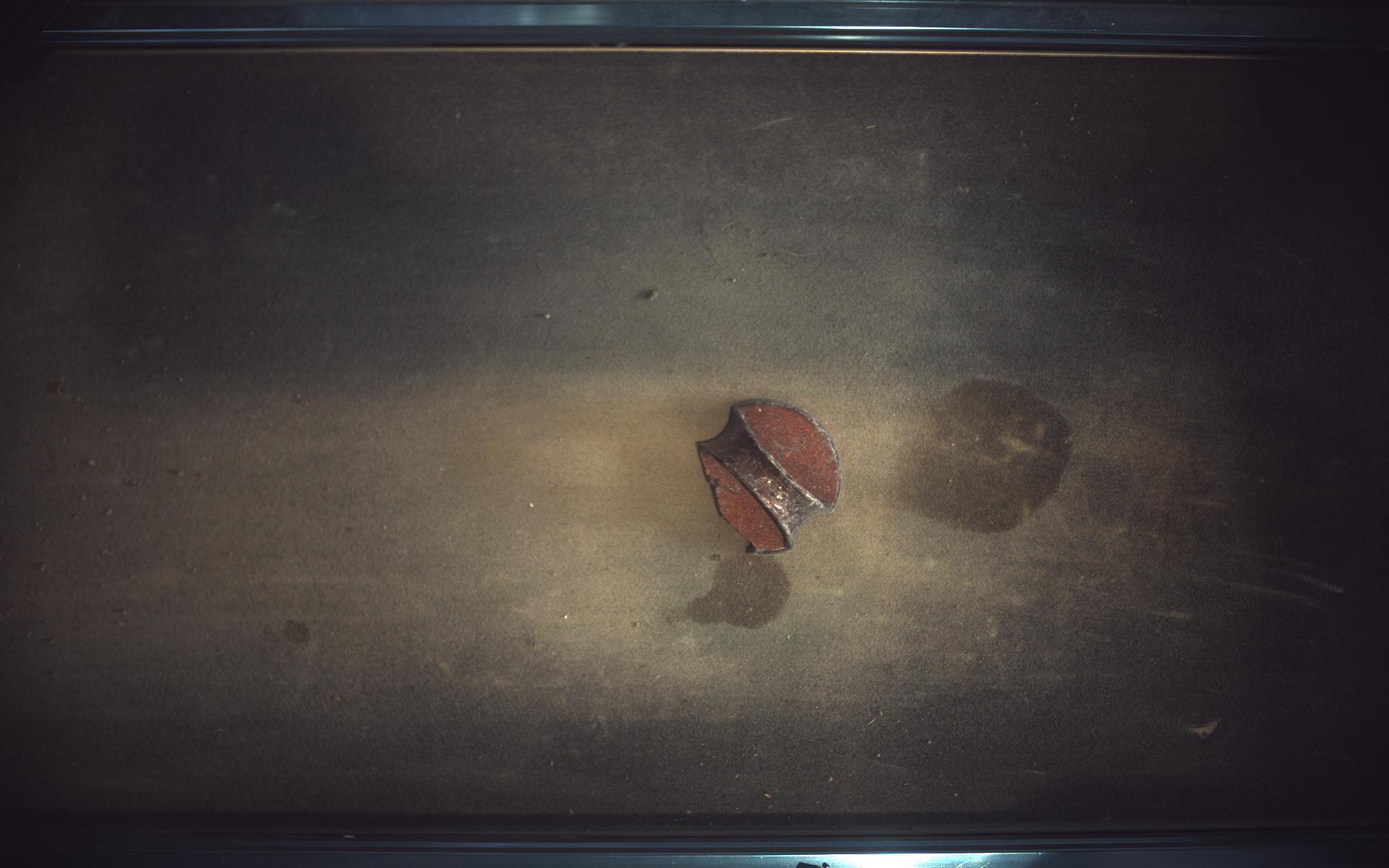general_w: (699, 400, 842, 554)
